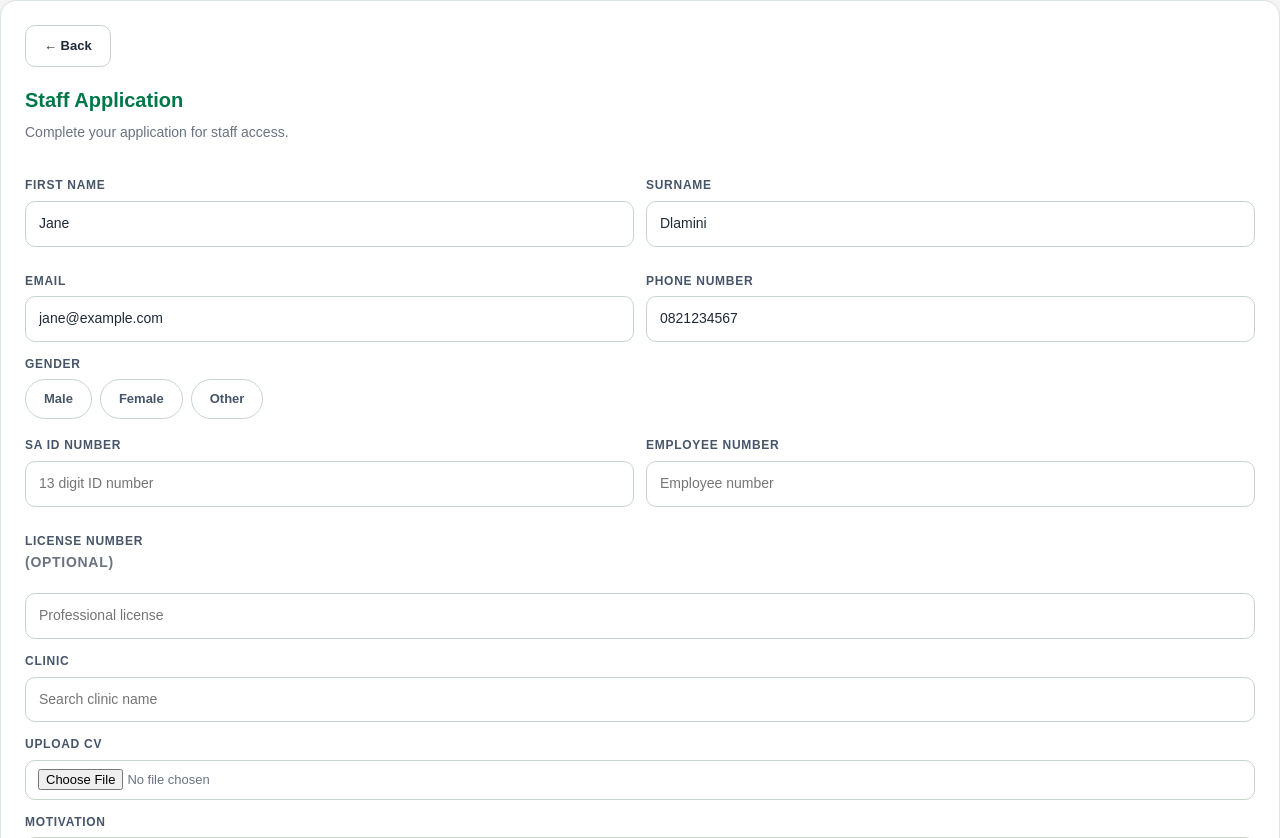
Test: Apply mode - clinic search › Shows clinic results when typing in clinic field
Type "City" into the field with placeholder "Search clinic name" at x=640, y=699, box left=25, top=676, right=1255, bottom=722
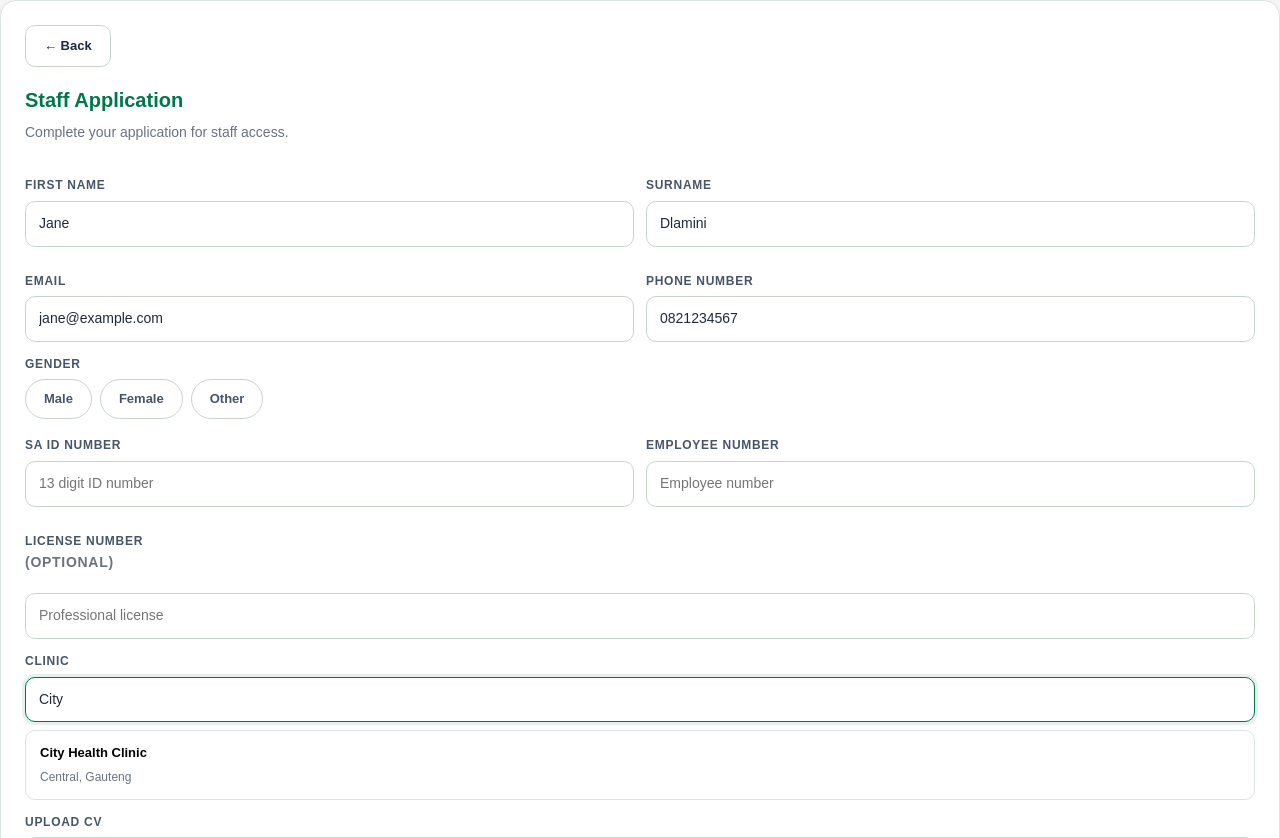
Expected: the text "City Health Clinic" is shown, left=40, top=742, right=147, bottom=764
